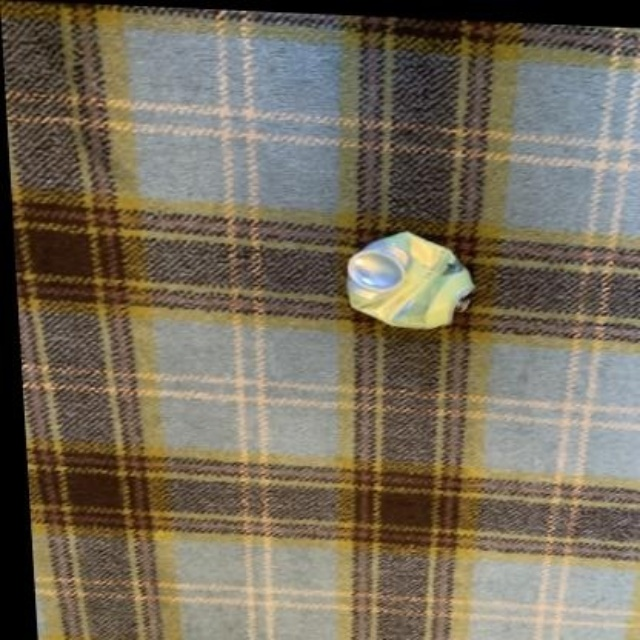trash: (346, 232, 472, 328)
